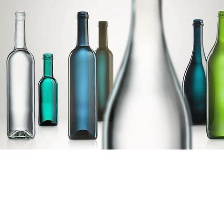bottle: (98, 0, 195, 152), (66, 8, 98, 141), (5, 9, 36, 141), (179, 16, 213, 126), (202, 6, 223, 146), (93, 18, 117, 125), (35, 49, 62, 128)
